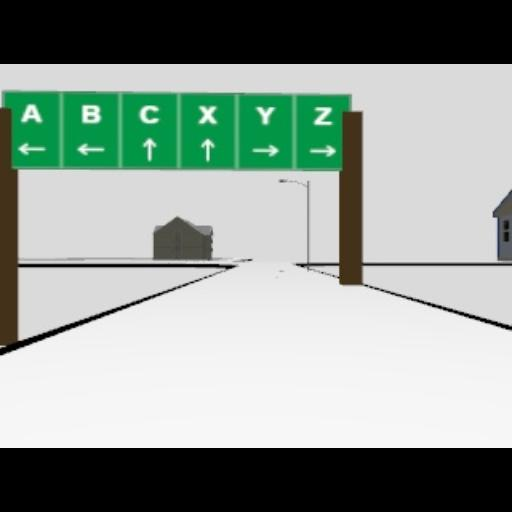A: (19, 102, 41, 124)
B: (80, 104, 100, 124)
C: (140, 104, 158, 124)
Left: (75, 142, 105, 156), (16, 142, 46, 156)
Right: (308, 144, 336, 156), (252, 144, 278, 156)
Straight: (143, 138, 157, 160), (200, 138, 214, 160)
X: (196, 104, 218, 124)
Y: (254, 106, 276, 124)
Z: (312, 106, 332, 124)
